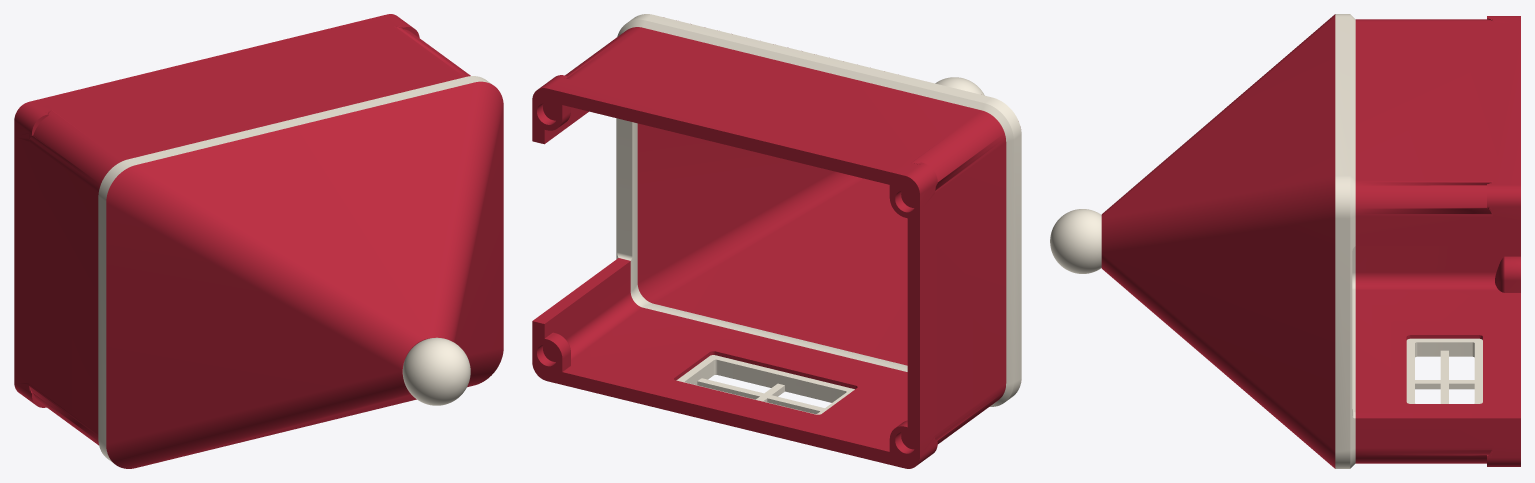
The picture shows the model from 3 angles, left to right: view 1: azimuth 30°, elevation 25°; view 2: azimuth 150°, elevation 25°; view 3: azimuth 270°, elevation 25°; orthographic projection. The views are drawn at different scales.
Visible parts, largest first — view 1: G03_ChristmasRed, G03_Snow; view 2: G03_ChristmasRed, G03_Snow, G03_WindowSnow; view 3: G03_ChristmasRed, G03_Snow, G03_WindowSnow.
Boxes of the visible parts, x1=… form: G03_ChristmasRed: x1=14, y1=14, x2=503, y2=468; G03_Snow: x1=98, y1=76, x2=492, y2=463; G03_ChristmasRed: x1=532, y1=27, x2=1006, y2=468; G03_Snow: x1=616, y1=14, x2=1021, y2=406; G03_WindowSnow: x1=676, y1=355, x2=854, y2=414; G03_ChristmasRed: x1=1101, y1=14, x2=1520, y2=468; G03_Snow: x1=1050, y1=14, x2=1355, y2=468; G03_WindowSnow: x1=1406, y1=338, x2=1482, y2=403.
Size of the model in its own units: 162 by 118 by 173.
